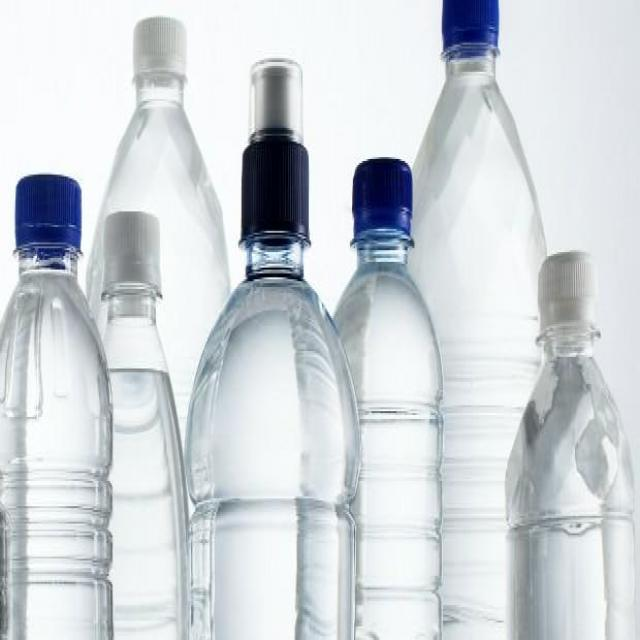plastic_bottle: (103, 49, 234, 640), (424, 11, 547, 637), (242, 80, 345, 640), (7, 177, 110, 640), (345, 185, 439, 640), (531, 268, 640, 640), (102, 220, 184, 640)
